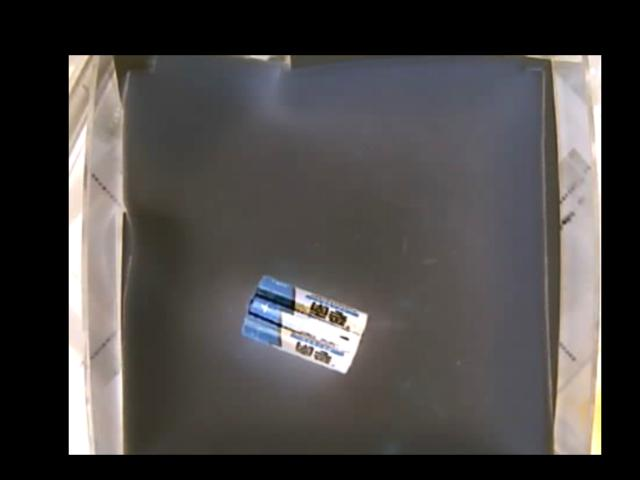Battery: (240, 274, 367, 373)
